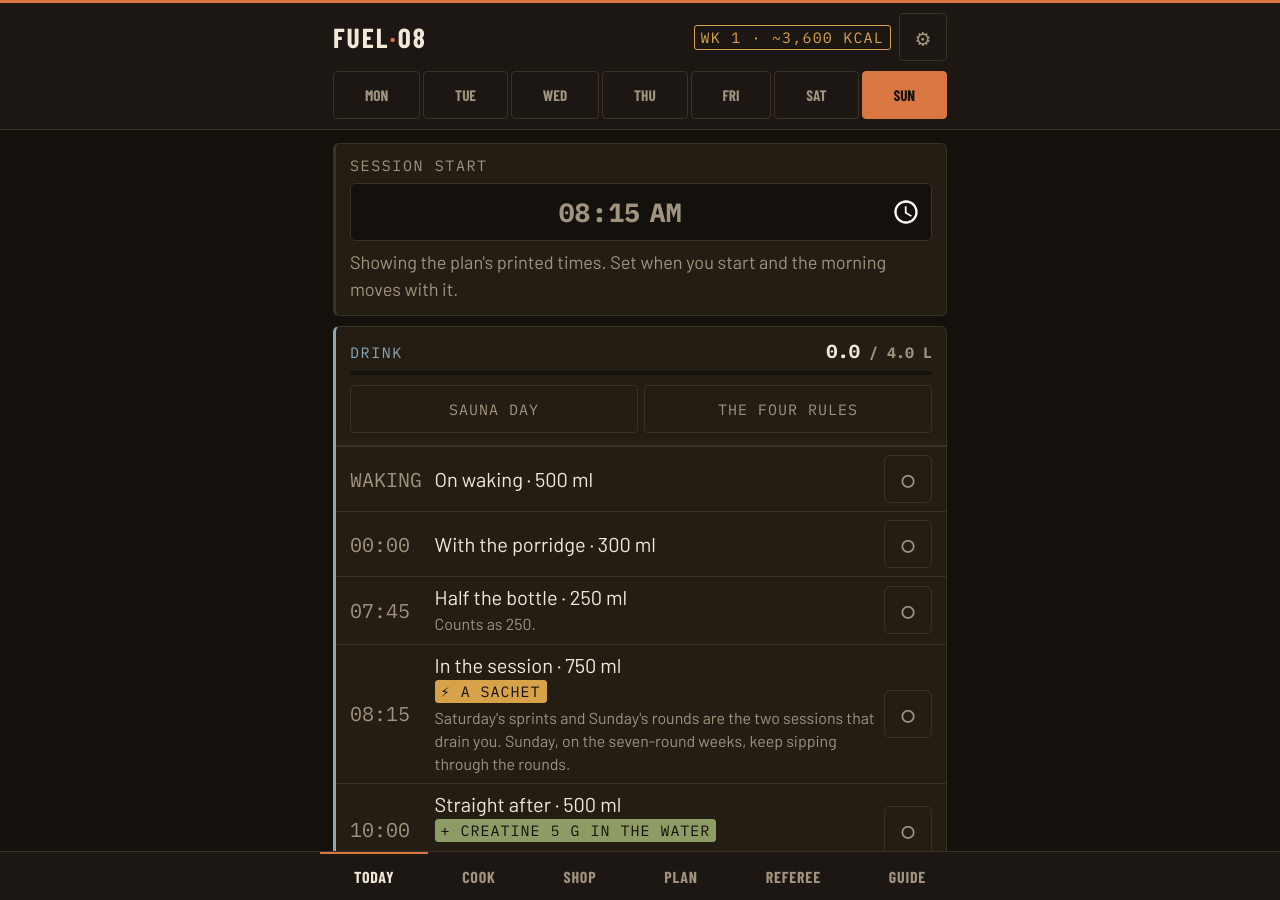
Test: Fuel · Optimal 8 Fighter › lights the falling-weight rule below half a kilo a week
This screenshot has width=1280, height=900.
Click the button "REFEREE" at (793, 876), box [732,852,855,899]
(page scrolled)
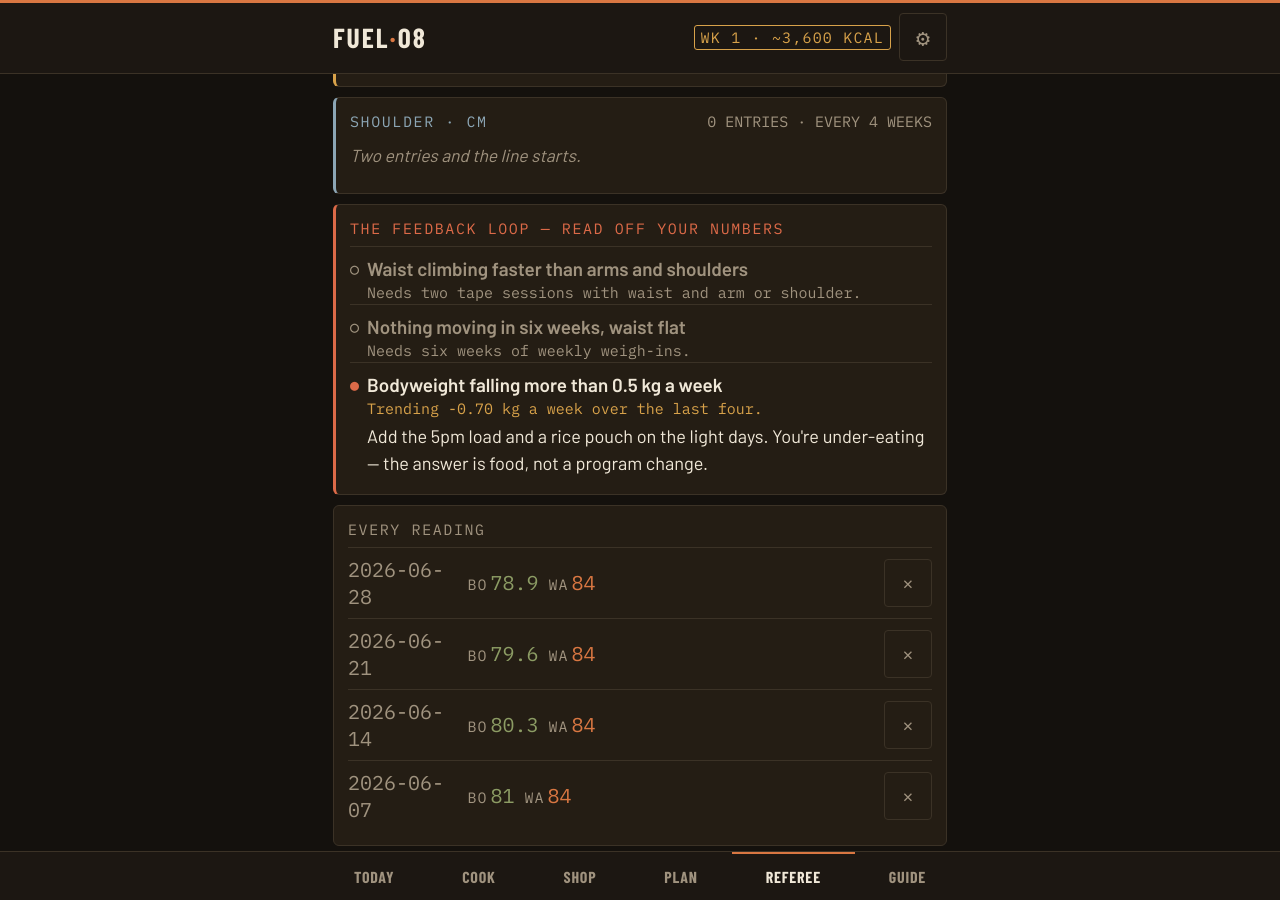
Expected: the text "Trending -0.70 kg a week over the last four." is shown, [367,399,763,418]
Expected: the text "rice pouch on the light days" is shown, [367,425,924,474]
